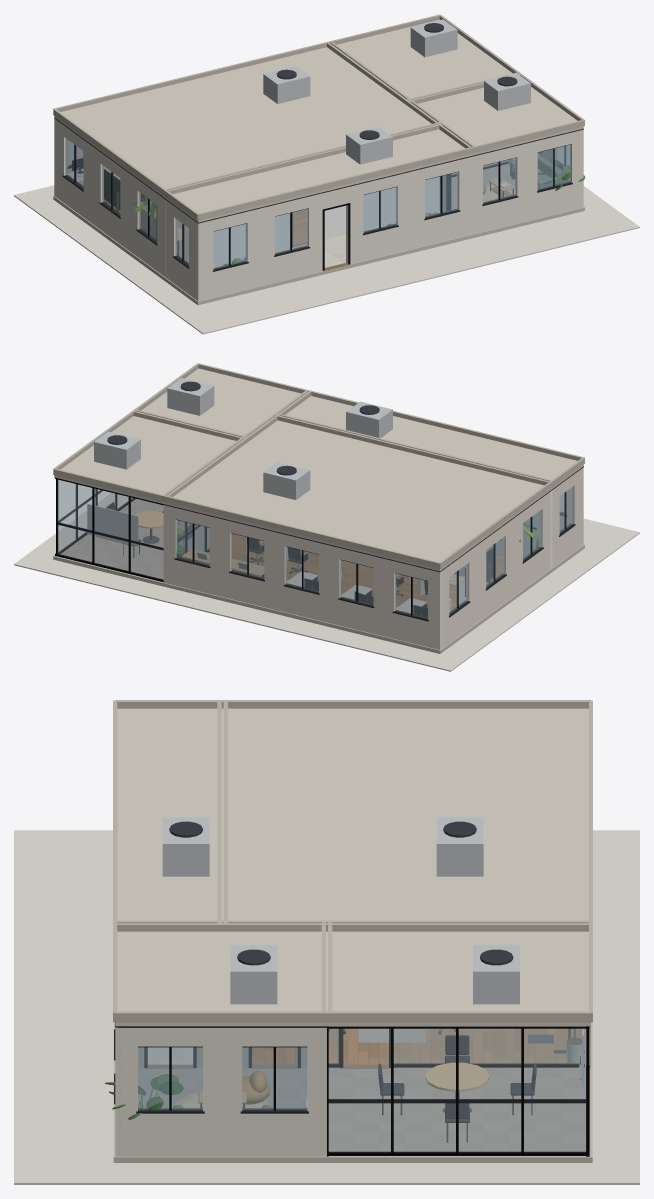
Rendered from open-space.glb.
The picture shows the model from 3 angles, top to bottom: view 1: azimuth 30°, elevation 25°; view 2: azimuth 150°, elevation 25°; view 3: azimuth 270°, elevation 25°; orthographic projection. The views are drawn at different scales.
Parts seen in each view (by area): view 1: teto_malha, paredes_malha, terreno_malha, janelas_malha, esquadrias_malha, laje_malha, paredes_topo_malha, piso_porcelanato_malha, piso_carpete_malha, sofa_malha, piso_madeira_malha; view 2: teto_malha, paredes_malha, terreno_malha, janelas_malha, divisorias_vidro_malha, esquadrias_malha, piso_carpete_malha, piso_madeira_malha, laje_malha, quadro-parede_malha, paredes_topo_malha, mesa-reuniao-redonda_malha; view 3: teto_malha, terreno_malha, divisorias_vidro_malha, piso_carpete_malha, paredes_malha, esquadrias_malha, janelas_malha, piso_madeira_malha, laje_malha, mesa-reuniao-redonda_malha, mesa-bancada_malha, costela-adao_malha (+2 smaller).
Boxes of the visible parts, x1,y1,x2,y2 form: teto_malha: (53,14,584,222); paredes_malha: (54,118,583,301); terreno_malha: (14,185,639,334); janelas_malha: (65,138,570,269); esquadrias_malha: (62,144,572,271); laje_malha: (53,196,584,305); paredes_topo_malha: (54,117,583,223); piso_porcelanato_malha: (214,212,439,267); piso_carpete_malha: (451,160,514,209); sofa_malha: (510,154,561,188); piso_madeira_malha: (104,199,306,244); teto_malha: (53,363,584,571); paredes_malha: (163,467,583,649); terreno_malha: (14,493,639,671); janelas_malha: (176,487,573,618); divisorias_vidro_malha: (58,479,208,579); esquadrias_malha: (55,477,575,621); piso_carpete_malha: (61,499,209,579); piso_madeira_malha: (197,534,502,610); laje_malha: (53,544,584,653); quadro-parede_malha: (87,504,138,546); paredes_topo_malha: (163,466,583,572); mesa-reuniao-redonda_malha: (135,511,163,543); teto_malha: (113,700,592,1026); terreno_malha: (14,830,639,1184); divisorias_vidro_malha: (328,1028,585,1151); piso_carpete_malha: (138,1067,585,1151); paredes_malha: (115,1026,590,1156); esquadrias_malha: (114,1026,589,1156); janelas_malha: (138,1047,307,1109); piso_madeira_malha: (252,1028,584,1064); laje_malha: (113,1022,592,1162); mesa-reuniao-redonda_malha: (425,1062,489,1112); mesa-bancada_malha: (358,1028,425,1042); costela-adao_malha: (105,1074,183,1119).
Size of the model in its own units: 16 by 3.81 by 12.
21 materials, 5 textured.
